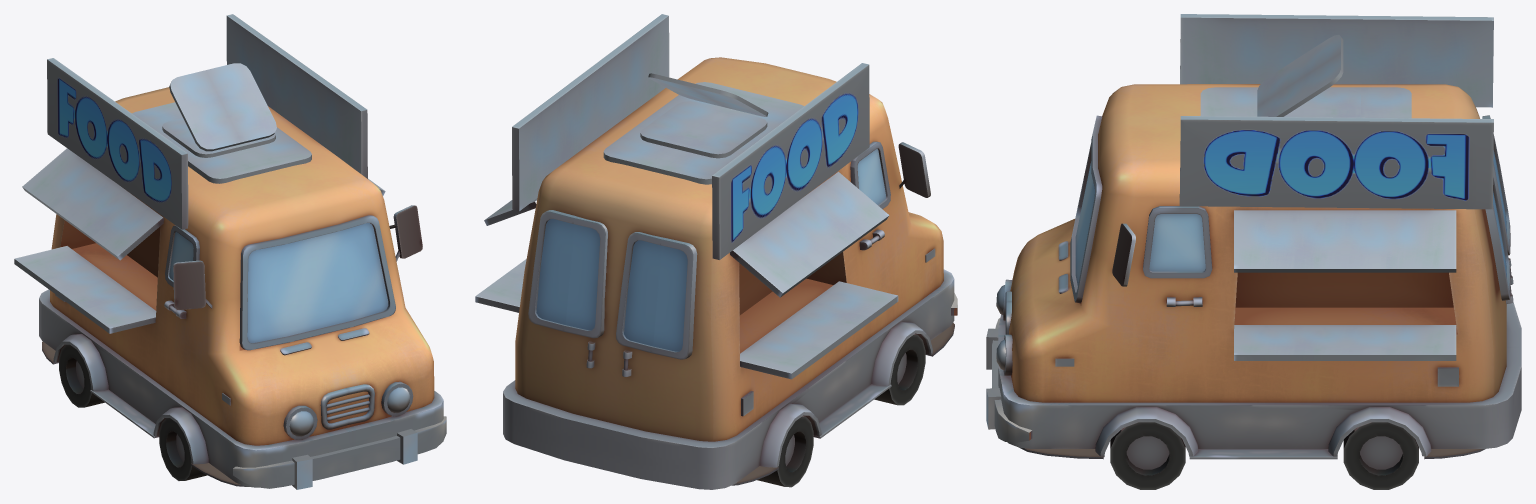
The model's file is food truck_4.fbx.
The picture shows the model from 3 angles, left to right: view 1: azimuth 30°, elevation 25°; view 2: azimuth 150°, elevation 25°; view 3: azimuth 270°, elevation 25°; orthographic projection. The views are drawn at different scales.
Visible parts, largest first — view 1: Cube.157, Cube.169, Cube.150, Cube.166, Cube.170, Cube.180, Cube.174, Cube.175, Cube.179, Cube.112, Plane.016, Cylinder.033 (+11 smaller); view 2: Cube.157, Cube.169, Cube.166, Cube.155, Cube.170, Cube.174, Cube.179, Cube.183, Cylinder.044, Cylinder.045, Cube.151, Cube.180 (+4 smaller); view 3: Cube.157, Cube.169, Cube.166, Cube.170, Cube.174, Cube.151, Cylinder.044, Cylinder.045, Cube.180, Cube.179, Cube.155, Cube.112 (+10 smaller).
Boxes of the visible parts, <box> form: Cube.157: <box>50,87,434,445</box>; Cube.169: <box>47,14,367,229</box>; Cube.150: <box>247,223,388,343</box>; Cube.166: <box>39,289,443,487</box>; Cube.170: <box>22,148,385,260</box>; Cube.180: <box>169,63,276,151</box>; Cube.174: <box>14,246,156,333</box>; Cube.175: <box>233,416,446,488</box>; Cube.179: <box>132,102,311,183</box>; Cube.112: <box>239,215,395,350</box>; Plane.016: <box>173,205,422,309</box>; Cylinder.033: <box>283,381,413,439</box>; Cube.157: <box>515,57,943,441</box>; Cube.169: <box>512,14,869,259</box>; Cube.166: <box>503,269,954,489</box>; Cube.155: <box>528,210,697,359</box>; Cube.170: <box>484,172,889,297</box>; Cube.174: <box>475,259,898,379</box>; Cube.179: <box>603,82,804,184</box>; Cube.183: <box>640,101,767,158</box>; Cylinder.044: <box>757,416,813,487</box>; Cylinder.045: <box>874,334,925,405</box>; Cube.151: <box>850,141,890,208</box>; Cube.180: <box>648,73,768,116</box>; Cube.157: <box>1009,84,1506,402</box>; Cube.169: <box>1179,14,1493,209</box>; Cube.166: <box>998,302,1521,448</box>; Cube.170: <box>1234,210,1456,272</box>; Cube.174: <box>1234,325,1456,360</box>; Cube.151: <box>1143,206,1212,278</box>; Cylinder.044: <box>1343,422,1418,489</box>; Cylinder.045: <box>1110,422,1185,489</box>; Cube.180: <box>1257,35,1343,116</box>; Cube.179: <box>1200,87,1411,118</box>; Cube.155: <box>1482,115,1510,300</box>; Cube.112: <box>1070,115,1102,303</box>.
Bounding box in the file's own units: 2.59 × 2.79 × 3.63.
